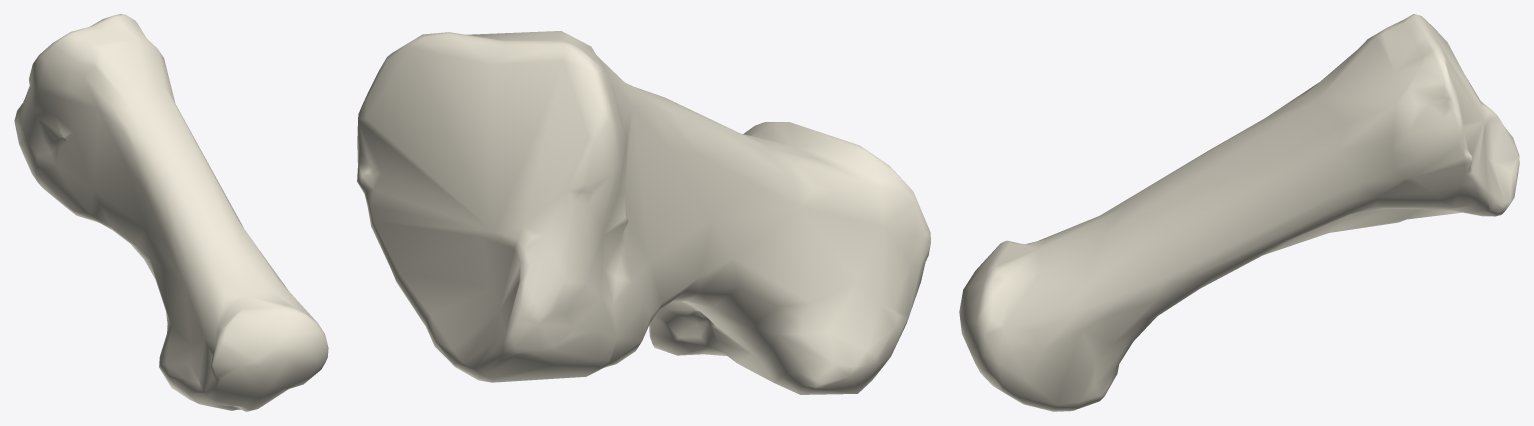
3 renders of one model, left to right at view 1: azimuth 30°, elevation 25°; view 2: azimuth 150°, elevation 25°; view 3: azimuth 270°, elevation 25°, orthographic. The views are drawn at different scales.
Parts seen in each view (by area): view 1: ZA_18d651c7c4cb48c4; view 2: ZA_18d651c7c4cb48c4; view 3: ZA_18d651c7c4cb48c4.
Part boxes in pixels (<box>): ZA_18d651c7c4cb48c4: <box>14,14,328,411</box>; ZA_18d651c7c4cb48c4: <box>357,31,930,394</box>; ZA_18d651c7c4cb48c4: <box>959,14,1519,411</box>.
Size of the model in its own units: 0.0218 by 0.0449 by 0.0636.
